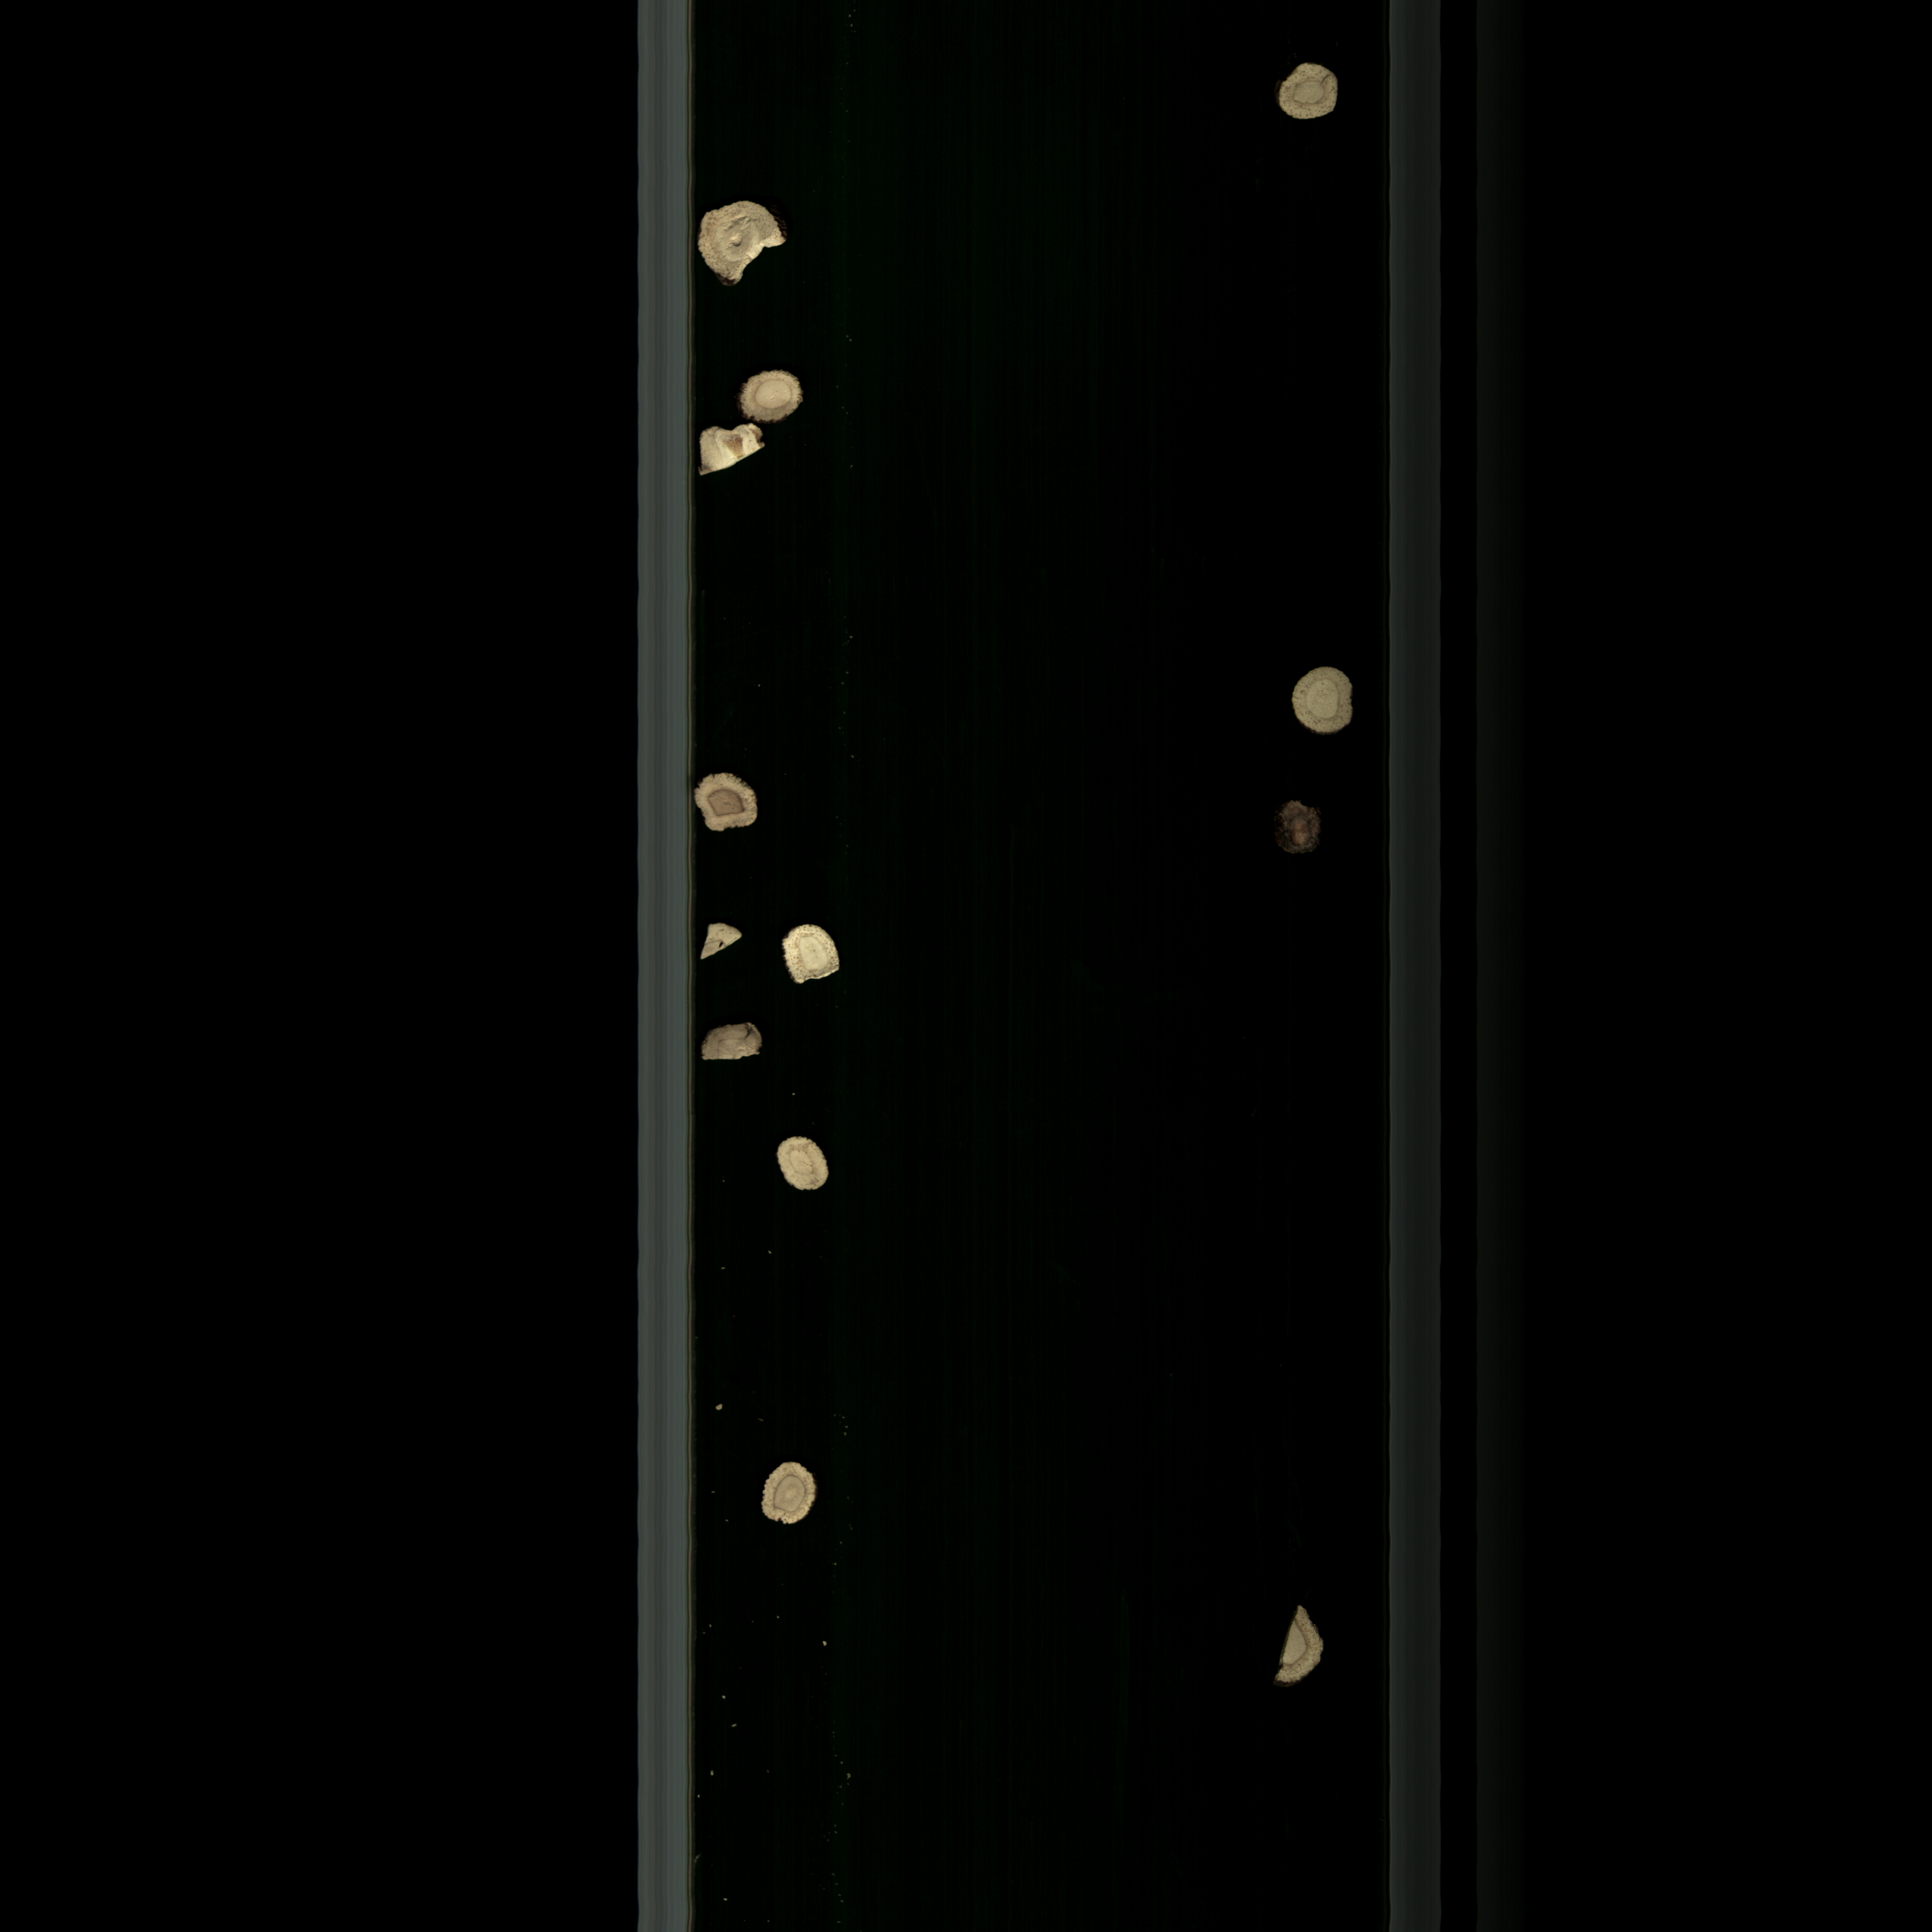bark: (1274, 796, 1327, 865)
debris: (690, 191, 793, 299), (1263, 1596, 1327, 1697), (777, 916, 851, 991), (695, 421, 771, 490), (697, 1016, 773, 1072)
dreg: (695, 911, 747, 971), (706, 1396, 732, 1422), (817, 1631, 837, 1654), (729, 1718, 747, 1736)
moldy: (686, 764, 768, 844), (1269, 60, 1345, 124)
